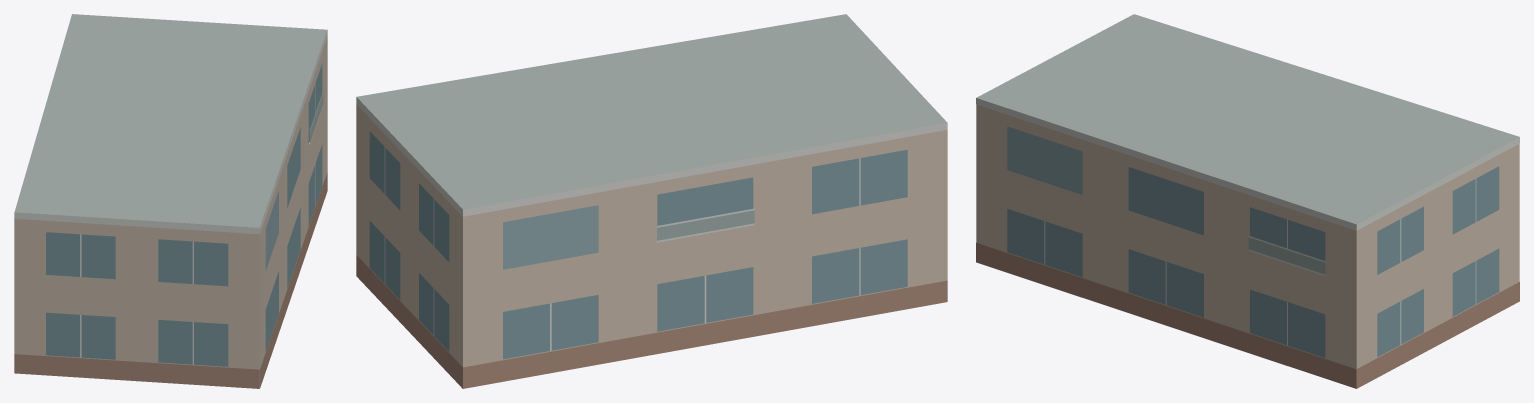
Rendered from survey-upis-32968441.glb.
3 renders of one model, left to right at view 1: azimuth 30°, elevation 25°; view 2: azimuth 150°, elevation 25°; view 3: azimuth 270°, elevation 25°, orthographic. The views are drawn at different scales.
Visible parts, largest first — view 1: survey-upis-32968441.tmp; view 2: survey-upis-32968441.tmp; view 3: survey-upis-32968441.tmp.
Boxes of the visible parts, x1=… form: survey-upis-32968441.tmp: x1=14, y1=14, x2=327, y2=388; survey-upis-32968441.tmp: x1=356, y1=14, x2=947, y2=388; survey-upis-32968441.tmp: x1=976, y1=14, x2=1519, y2=388.
Size of the model in its own units: 16.74 by 6.1 by 18.28.
